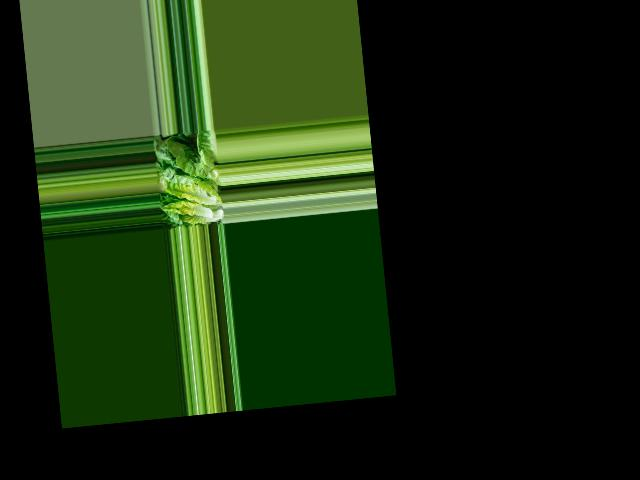lettuce: (160, 161, 225, 227)
